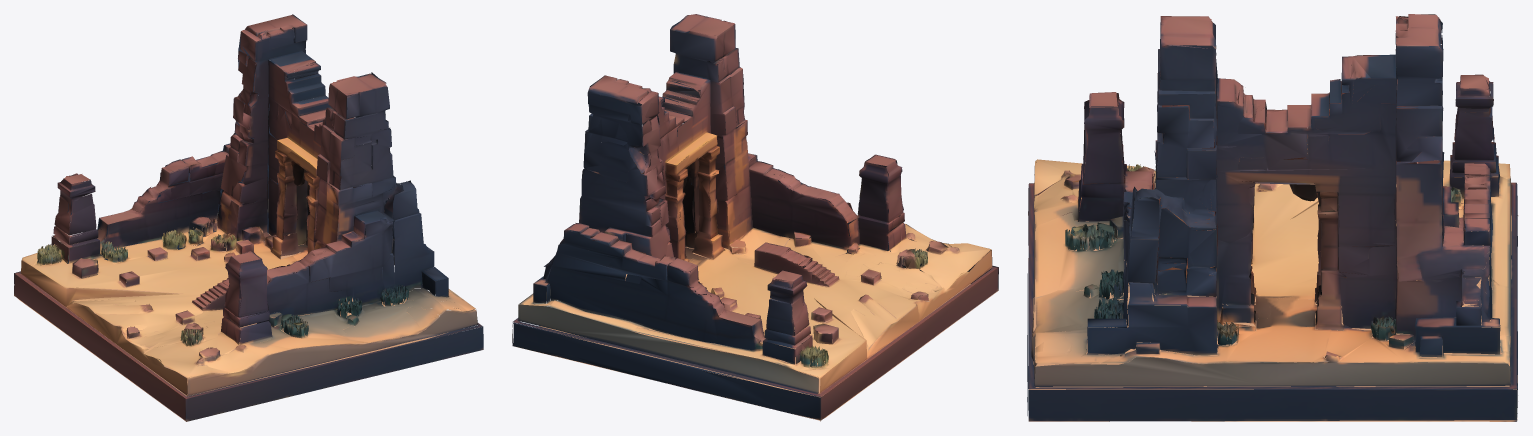
Rendered from desert_relic_with_gate_4.glb.
3 views of the same model, side by side, from view 1: azimuth 30°, elevation 25°; view 2: azimuth 150°, elevation 25°; view 3: azimuth 270°, elevation 25° (orthographic). The views are drawn at different scales.
Parts seen in each view (by area): view 1: node_0; view 2: node_0; view 3: node_0.
Part boxes in pixels (bbox=[...]): node_0: bbox=[14, 14, 483, 421]; node_0: bbox=[512, 14, 998, 421]; node_0: bbox=[1027, 14, 1518, 421].
Bounding box in the file's own units: 0.7468 × 0.579 × 0.75.
1 material, 1 textured.
